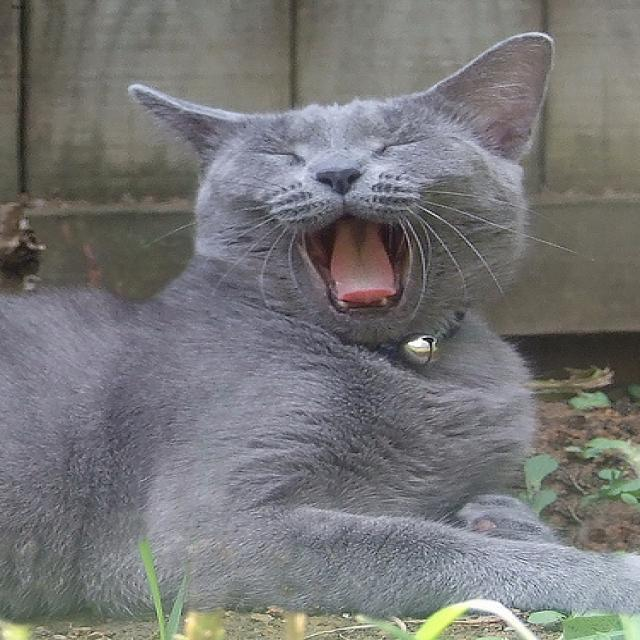Russian_Blue: (123, 27, 570, 343)
